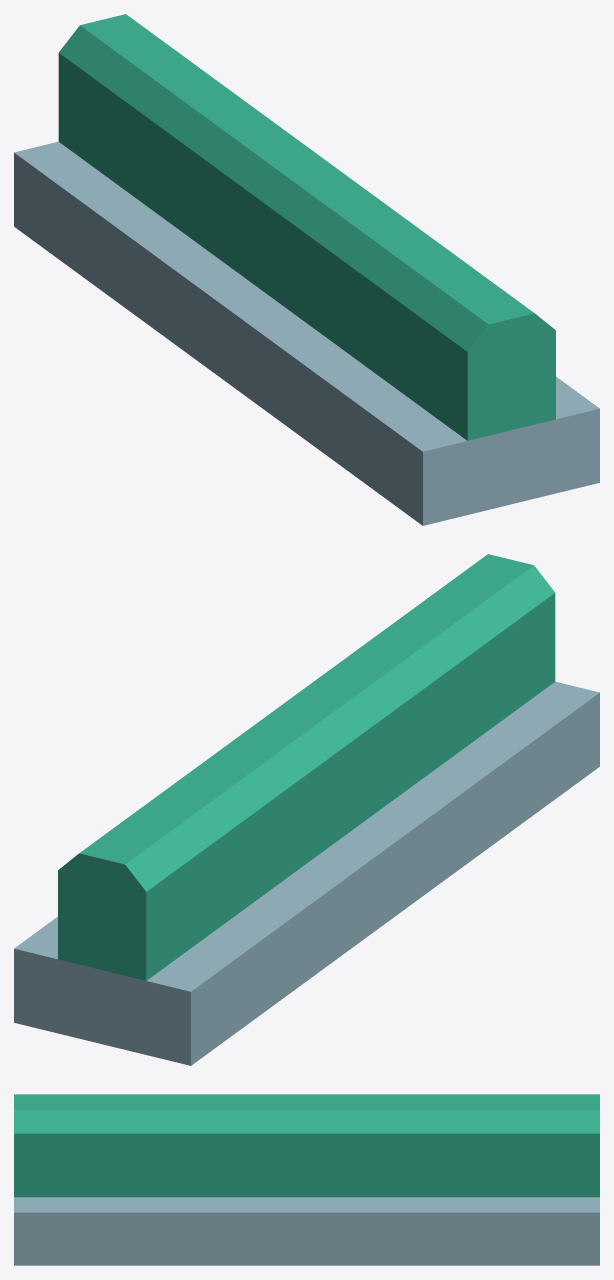
The model's file is hedge.obj.
The picture shows the model from 3 angles, top to bottom: view 1: azimuth 30°, elevation 25°; view 2: azimuth 150°, elevation 25°; view 3: azimuth 270°, elevation 25°; orthographic projection. The views are drawn at different scales.
Visible parts, largest first — view 1: hedge; view 2: hedge; view 3: hedge.
Part boxes in pixels (x1=…): hedge: x1=14, y1=14, x2=599, y2=525; hedge: x1=14, y1=554, x2=599, y2=1065; hedge: x1=14, y1=1094, x2=599, y2=1265.
Size of the model in its own units: 0.25 by 0.25 by 1.
